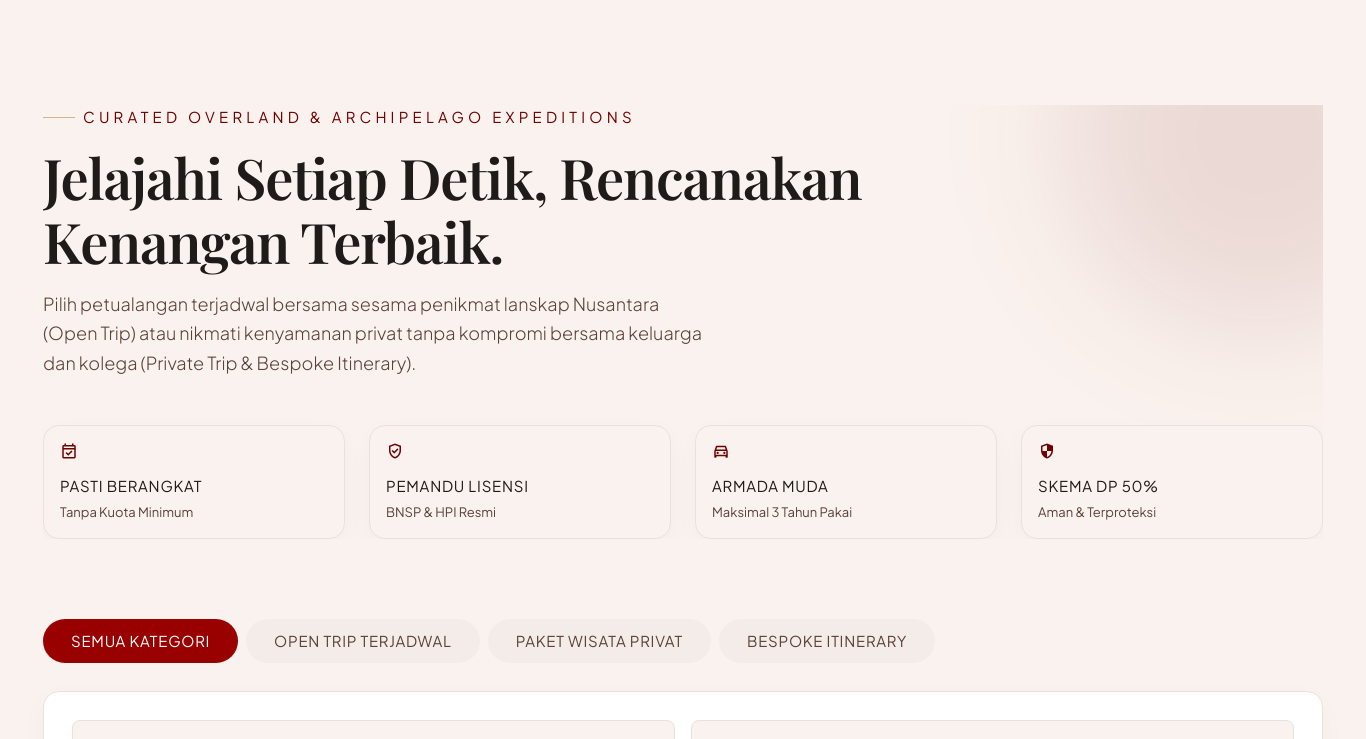
Test: filtering › scopes the page to a category tab
# The private tab keeps the private journeys and drops the open trips.
What coordinates should you click on to do the following:
click the tab "Paket Wisata Privat"
I would click on:
 (599, 641)
Its box is [488,619,711,663].
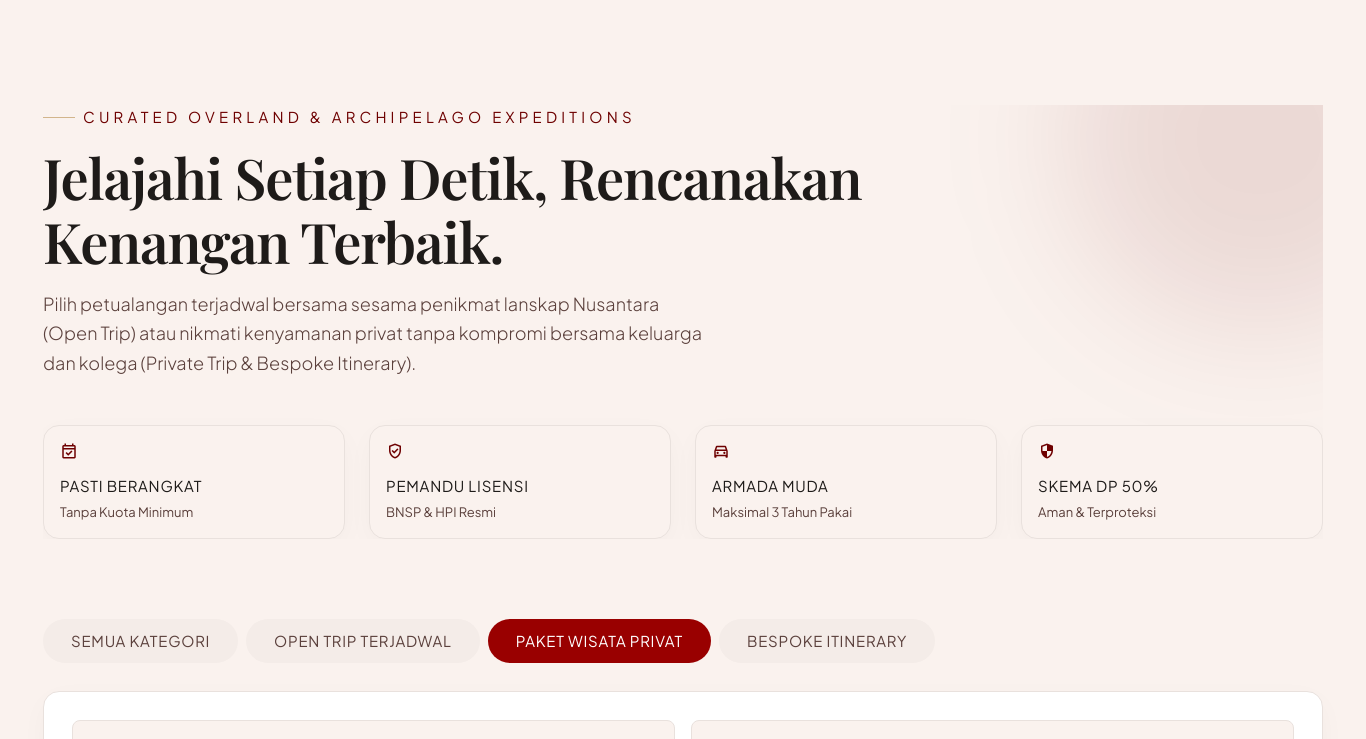
# The bespoke tab drops both grids and shows the request desk.
What coordinates should you click on to do the following:
click the tab "Bespoke Itinerary"
I would click on:
 (827, 641)
Its box is [719,619,935,663].
(page scrolled)
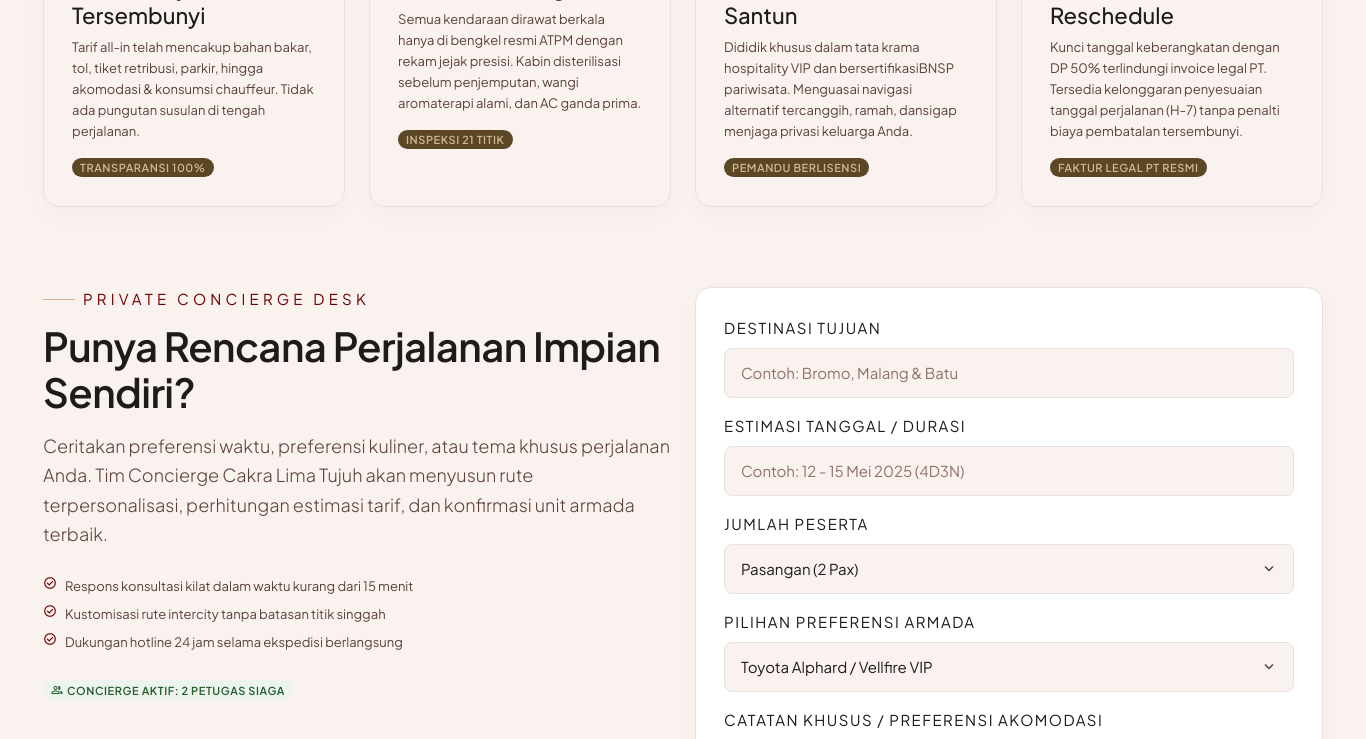
Now the heading "Punya Rencana Perjalanan Impian Sendiri?" is shown, box [43,323,671,415]
